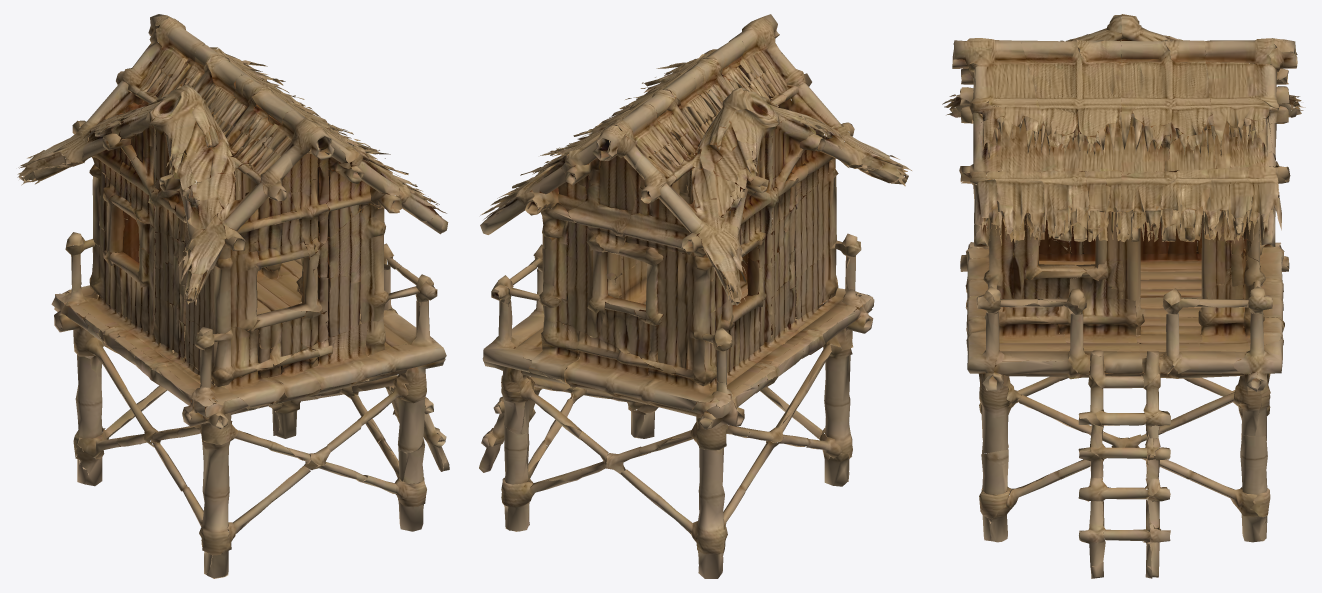
Rendered from house.glb.
3 renders of one model, left to right at view 1: azimuth 30°, elevation 25°; view 2: azimuth 150°, elevation 25°; view 3: azimuth 270°, elevation 25°, orthographic. The views are drawn at different scales.
Parts seen in each view (by area): view 1: house-convcol; view 2: house-convcol; view 3: house-convcol.
Part boxes in pixels (x1,y1,x2,y2): house-convcol: (17, 14, 449, 578); house-convcol: (479, 14, 911, 578); house-convcol: (942, 14, 1305, 578).
Size of the model in its own units: 4.51 by 5.6 by 4.17.
Materials: 1 (1 with a texture image).
